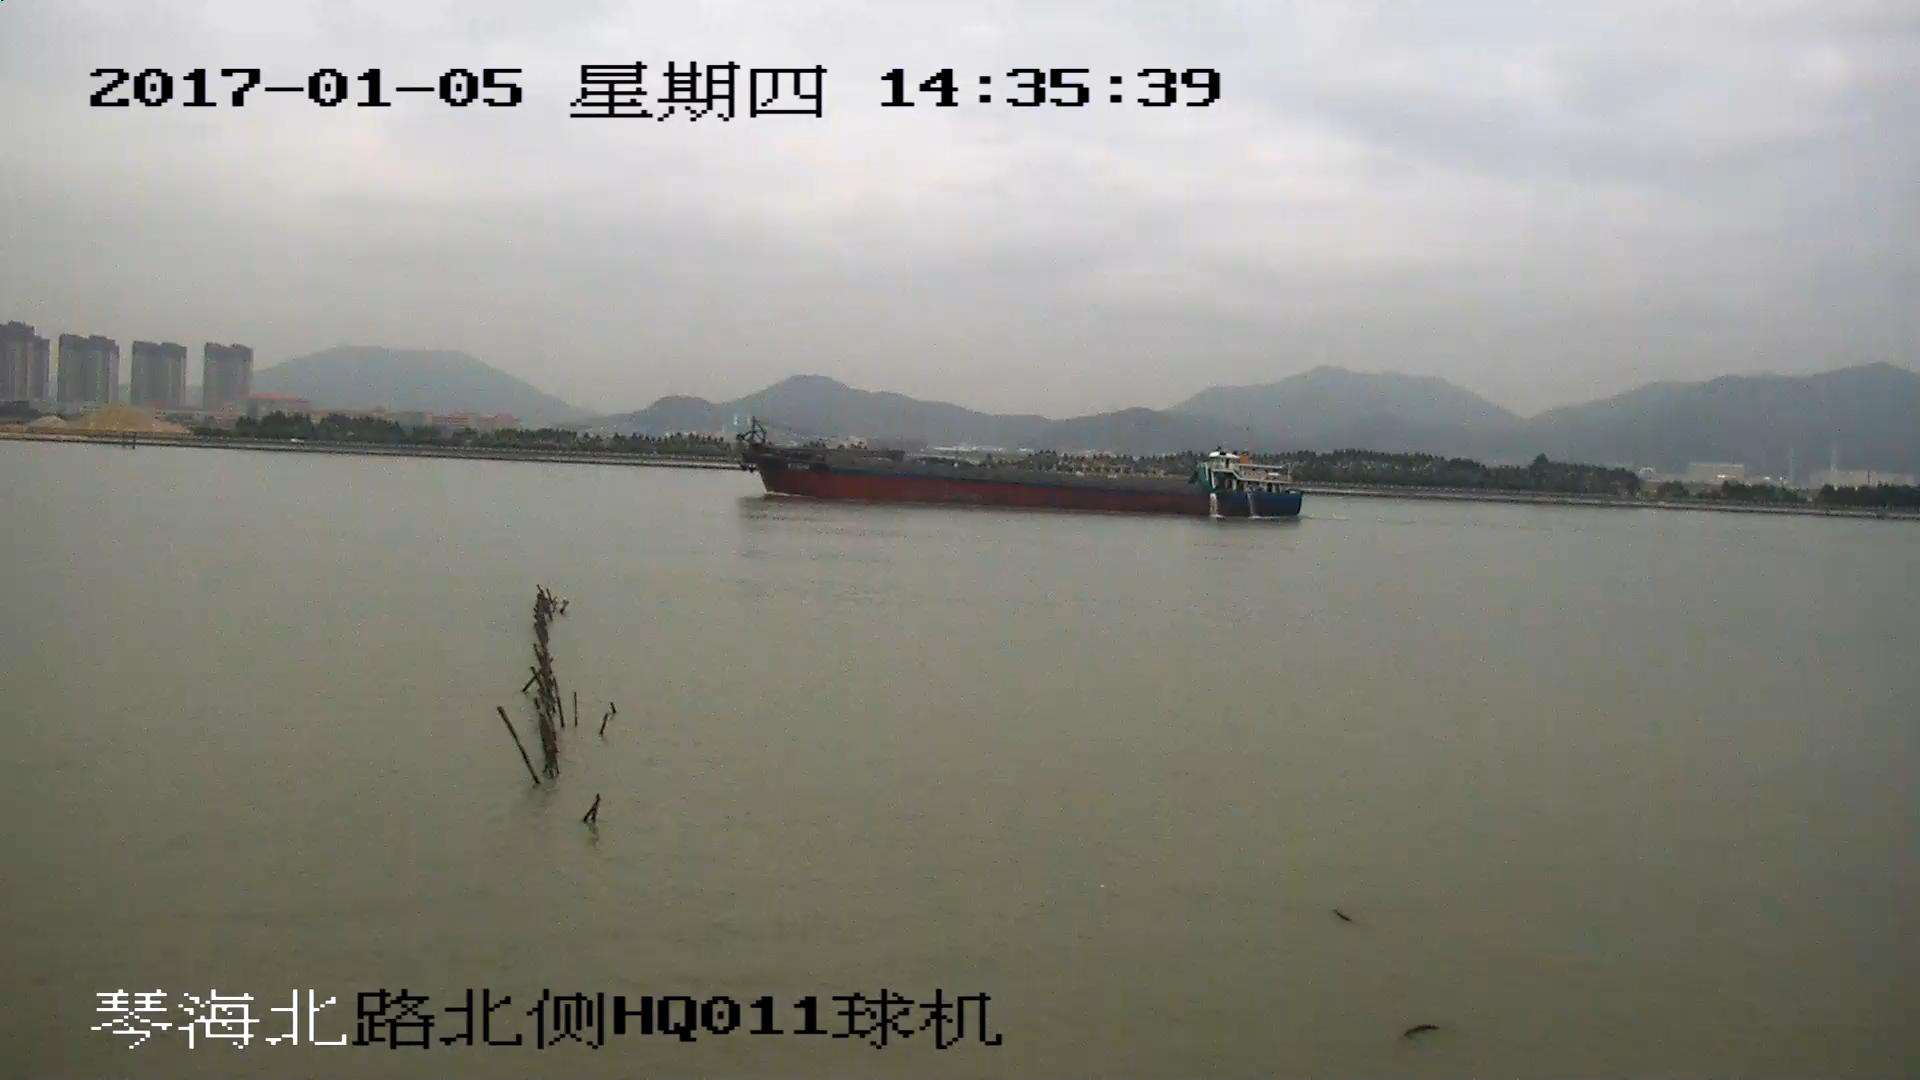bulk cargo carrier: (729, 419, 1301, 520)
